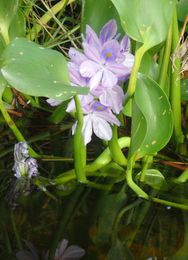water_hyacinth: (0, 0, 188, 205)
